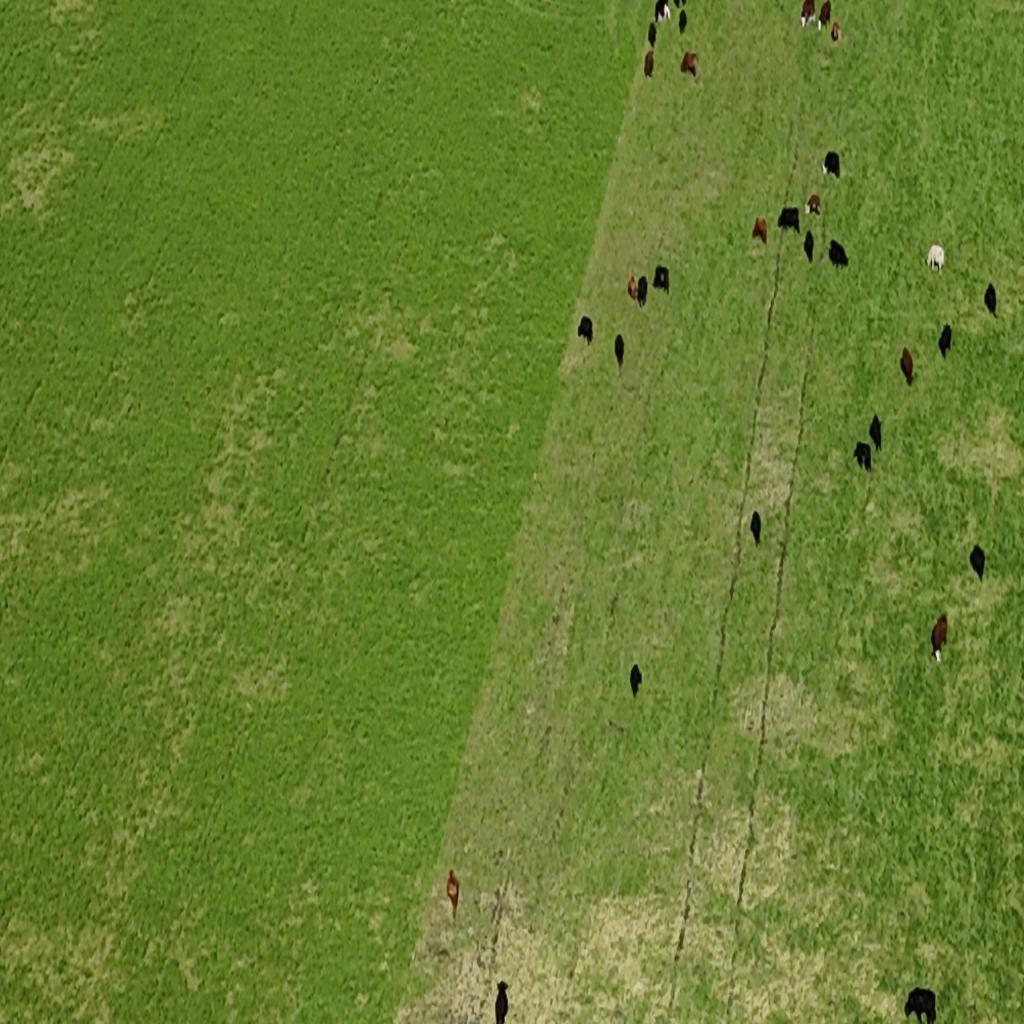cow: (905, 981, 937, 1024), (932, 614, 948, 662), (494, 980, 510, 1024), (969, 543, 986, 583), (828, 239, 848, 270), (778, 206, 800, 233), (900, 347, 914, 386), (984, 280, 998, 318), (854, 441, 871, 472), (448, 868, 459, 914), (938, 323, 952, 359), (822, 151, 840, 179), (680, 52, 698, 80), (800, 0, 816, 30), (577, 315, 593, 345), (653, 264, 669, 293), (928, 243, 944, 271), (750, 510, 762, 547), (818, 0, 831, 33), (630, 663, 642, 698), (614, 332, 624, 372), (753, 216, 767, 244), (872, 412, 882, 451), (655, 0, 671, 24), (804, 229, 814, 264), (806, 194, 820, 218), (639, 274, 648, 306), (628, 274, 638, 302), (644, 50, 653, 78), (648, 22, 656, 50), (832, 21, 842, 42), (678, 9, 686, 34)
